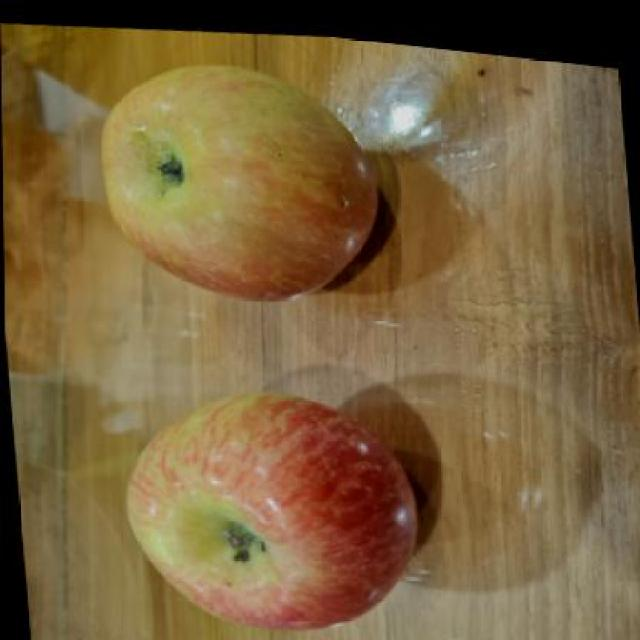Fresh Apple: (120, 405, 424, 629), (98, 73, 368, 289)
